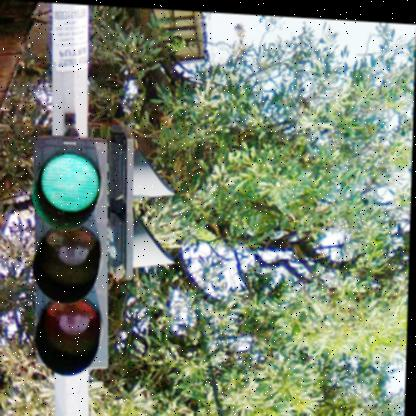Traffic Light -Green-: (32, 133, 111, 369)
